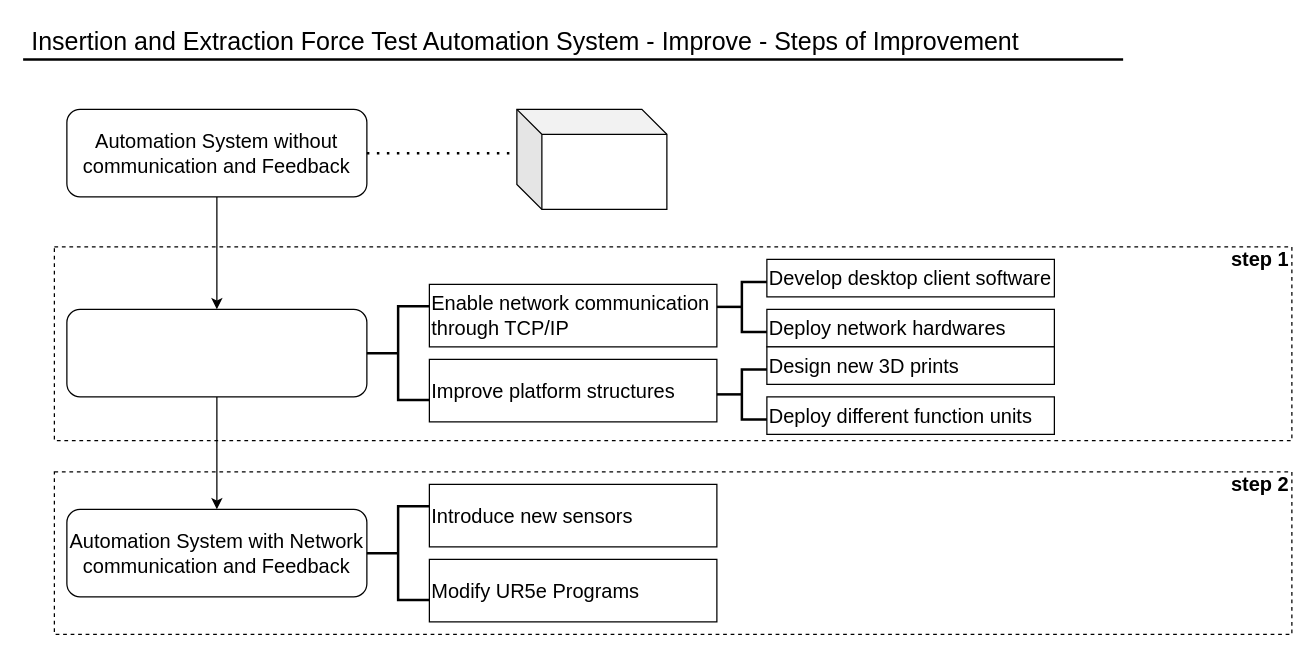
Some shapes in this 1314 by 666 pixel diagram are drawn without their labels. Here are the shapes that lost their labels. From the top down, the centre of each, then its label:
the point at 591,158: Previous work
the point at 216,352: Automation System with Network communication
